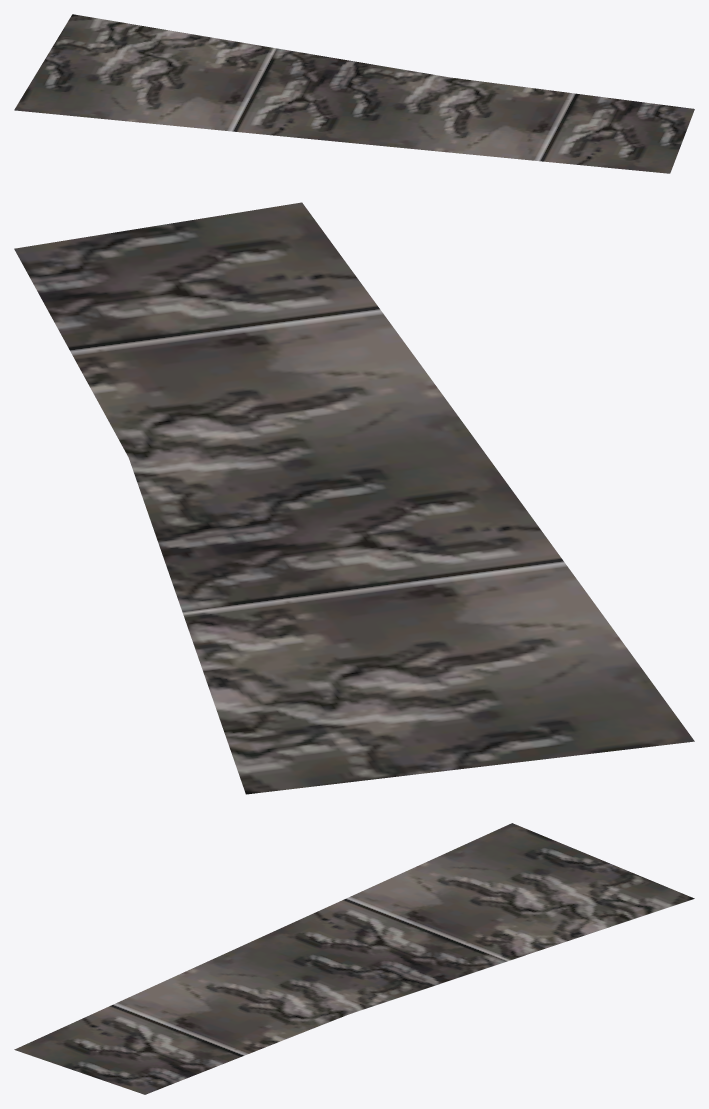
File: CH09_SMAUG_PLAYSURFACE_LAIR57.fbx
3 views of the same model, one above another, from view 1: azimuth 30°, elevation 25°; view 2: azimuth 150°, elevation 25°; view 3: azimuth 270°, elevation 25° (orthographic). The views are drawn at different scales.
Parts seen in each view (by area): view 1: CH09_SMAUG_PLAYSURFACE_LAIR57; view 2: CH09_SMAUG_PLAYSURFACE_LAIR57; view 3: CH09_SMAUG_PLAYSURFACE_LAIR57.
Part boxes in pixels (x1,y1,x2,y2): CH09_SMAUG_PLAYSURFACE_LAIR57: (14, 14, 694, 173); CH09_SMAUG_PLAYSURFACE_LAIR57: (14, 202, 694, 794); CH09_SMAUG_PLAYSURFACE_LAIR57: (14, 823, 694, 1094).
Bounding box in the file's own units: 61067 × 0.00653 × 64640.
Materials: 1 (1 with a texture image).
